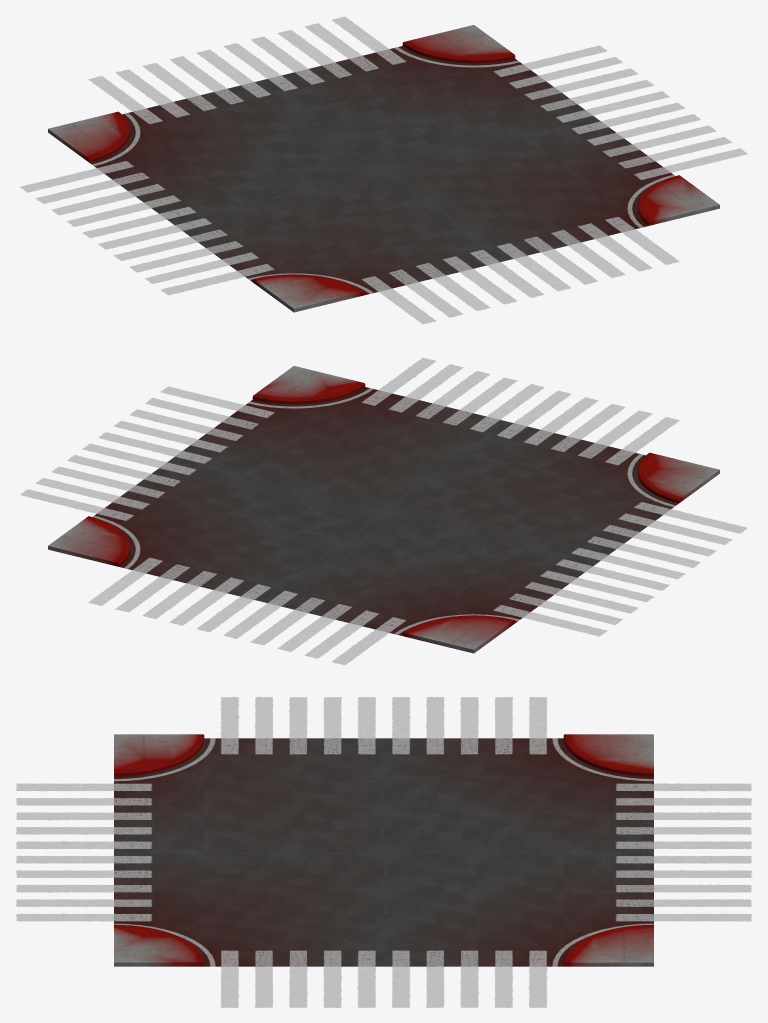
Rendered from road_cross.glb.
3 views of the same model, one above another, from view 1: azimuth 30°, elevation 25°; view 2: azimuth 150°, elevation 25°; view 3: azimuth 270°, elevation 25° (orthographic). The views are drawn at different scales.
Parts seen in each view (by area): view 1: Street_4WayIntersection; view 2: Street_4WayIntersection; view 3: Street_4WayIntersection.
Boxes of the visible parts, box(x1,y1,x2,y2) form: Street_4WayIntersection: box(20, 16, 747, 324); Street_4WayIntersection: box(20, 357, 747, 665); Street_4WayIntersection: box(16, 697, 751, 1007).
Bounding box in the file's own units: 24.67 × 0.15 × 24.67.
Materials: 3 (3 with a texture image).
